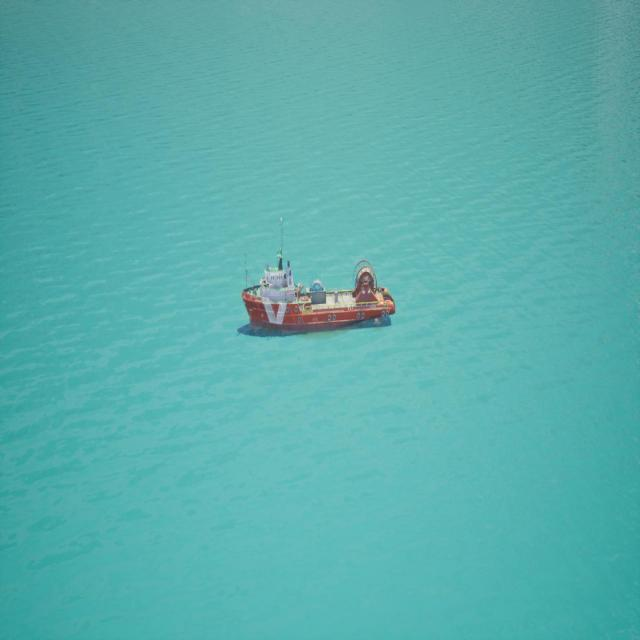tug boat: (239, 218, 398, 340)
